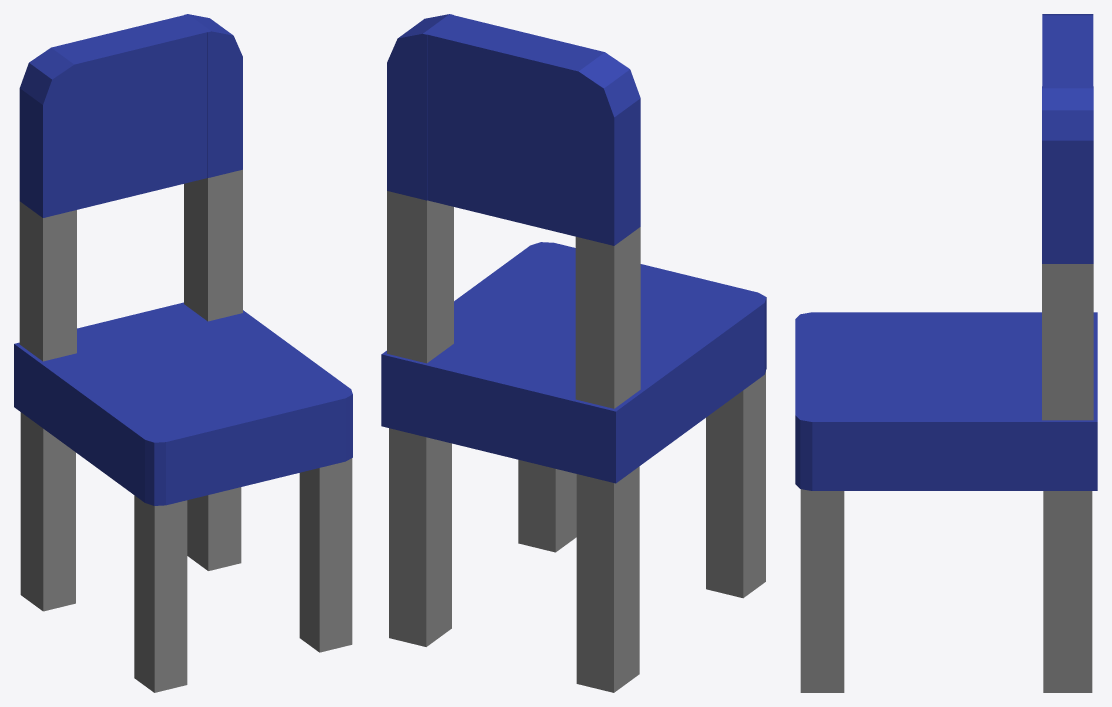
Rendered from SillaExtra.fbx.
3 renders of one model, left to right at view 1: azimuth 30°, elevation 25°; view 2: azimuth 150°, elevation 25°; view 3: azimuth 270°, elevation 25°, orthographic. The views are drawn at different scales.
Parts seen in each view (by area): view 1: Silla; view 2: Silla; view 3: Silla.
Part boxes in pixels (x1,y1,x2,y2): Silla: (14,14,352,692); Silla: (381,14,766,692); Silla: (795,14,1097,692).
Size of the model in its own units: 108 by 270 by 126.
